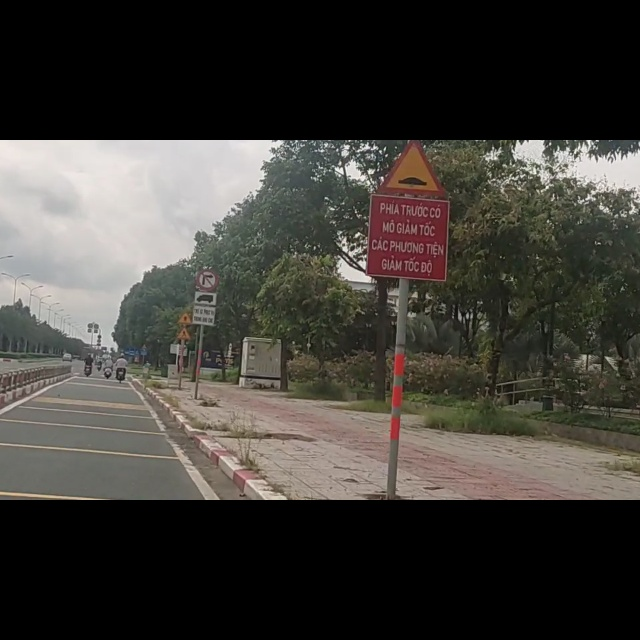bien_cam: (378, 1, 447, 97), (192, 269, 217, 328), (195, 230, 219, 267), (176, 333, 191, 354), (178, 306, 192, 327)
